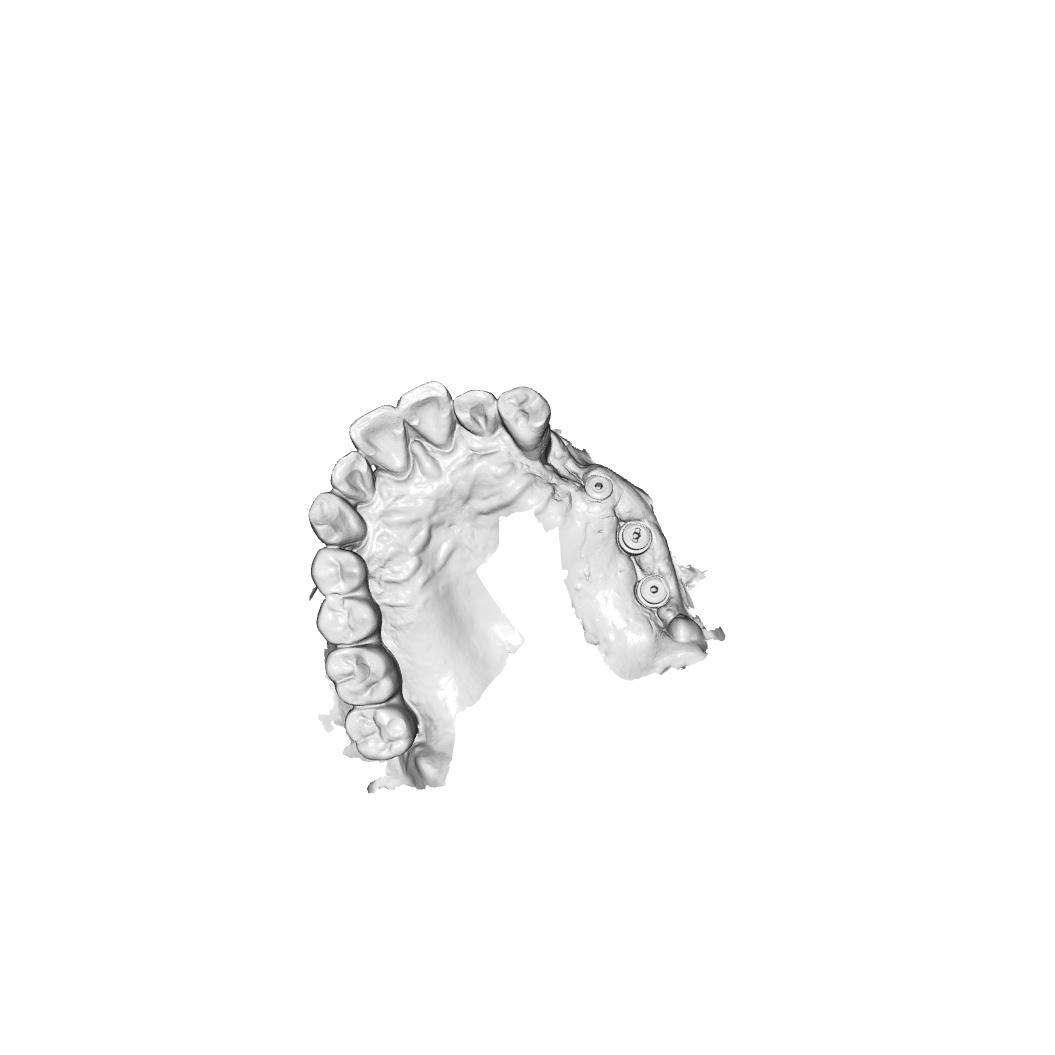canine: (496, 385, 554, 453), (307, 491, 368, 547)
implant: (635, 575, 670, 608), (583, 470, 615, 502)
implant_minus: (616, 519, 654, 556)
incisor: (348, 403, 410, 477), (394, 379, 456, 451), (451, 388, 505, 438), (329, 450, 376, 505)
molar: (324, 644, 403, 707), (342, 706, 419, 761)
premolar: (315, 593, 383, 648), (310, 546, 369, 596)
